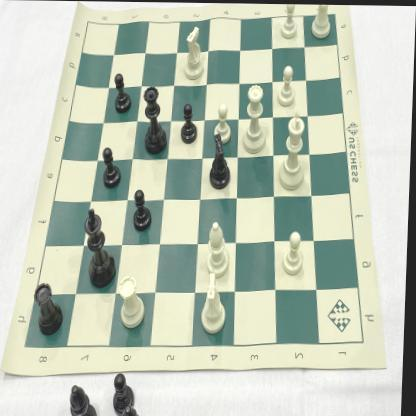black-king: (82, 207, 120, 290)
black-knight: (208, 132, 236, 190)
black-pawn: (101, 144, 126, 192), (112, 71, 134, 117), (133, 186, 154, 232), (181, 101, 200, 144)
black-queen: (141, 84, 170, 157)
black-rook: (34, 280, 68, 338)
white-bishop: (208, 219, 233, 279)
white-king: (278, 107, 309, 192)
white-knight: (201, 271, 231, 336), (182, 24, 207, 81)
white-pawn: (282, 228, 309, 276), (276, 63, 299, 108), (213, 101, 234, 144), (278, 3, 301, 40)
white-queen: (242, 80, 269, 155)
white-rook: (120, 272, 150, 331), (310, 4, 332, 42)
